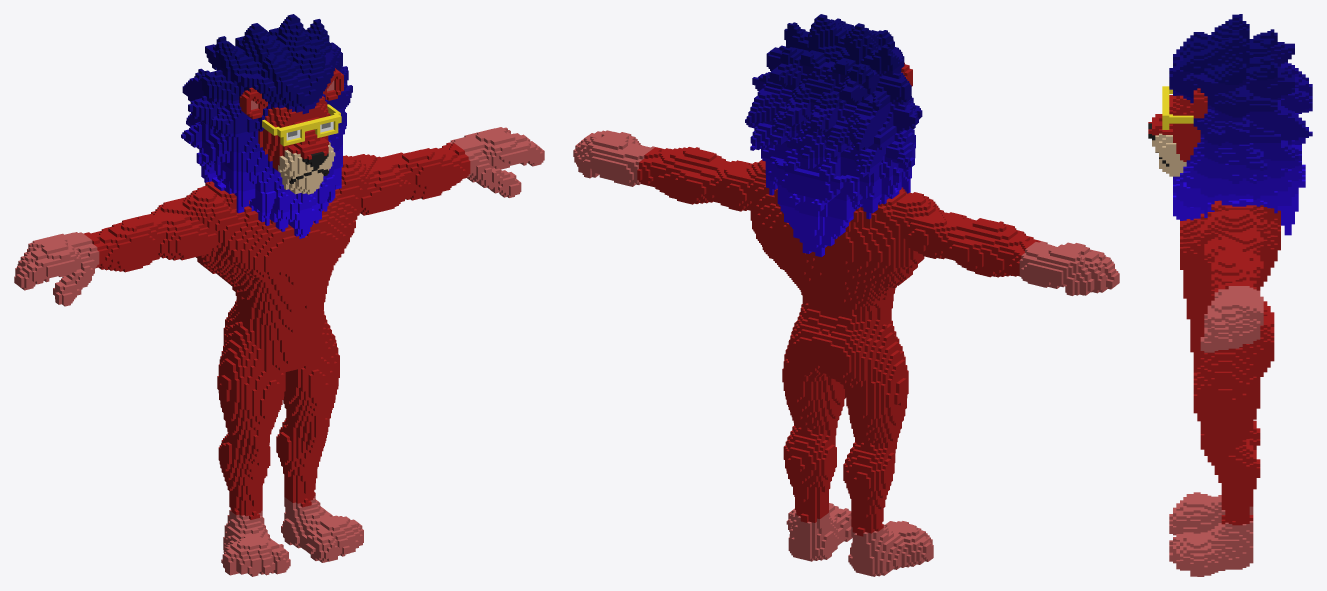
File: 366-BJBbsCRX.glb
The picture shows the model from 3 angles, left to right: view 1: azimuth 30°, elevation 25°; view 2: azimuth 150°, elevation 25°; view 3: azimuth 270°, elevation 25°; orthographic projection. The views are drawn at different scales.
Visible parts, largest first — view 1: sad; view 2: sad; view 3: sad.
Boxes of the visible parts, <box> form: sad: <box>14,14,544,576</box>; sad: <box>573,14,1119,576</box>; sad: <box>1148,14,1312,576</box>.
Bounding box in the file's own units: 17.2 × 16.5 × 4.7.
4 materials, 4 textured.
